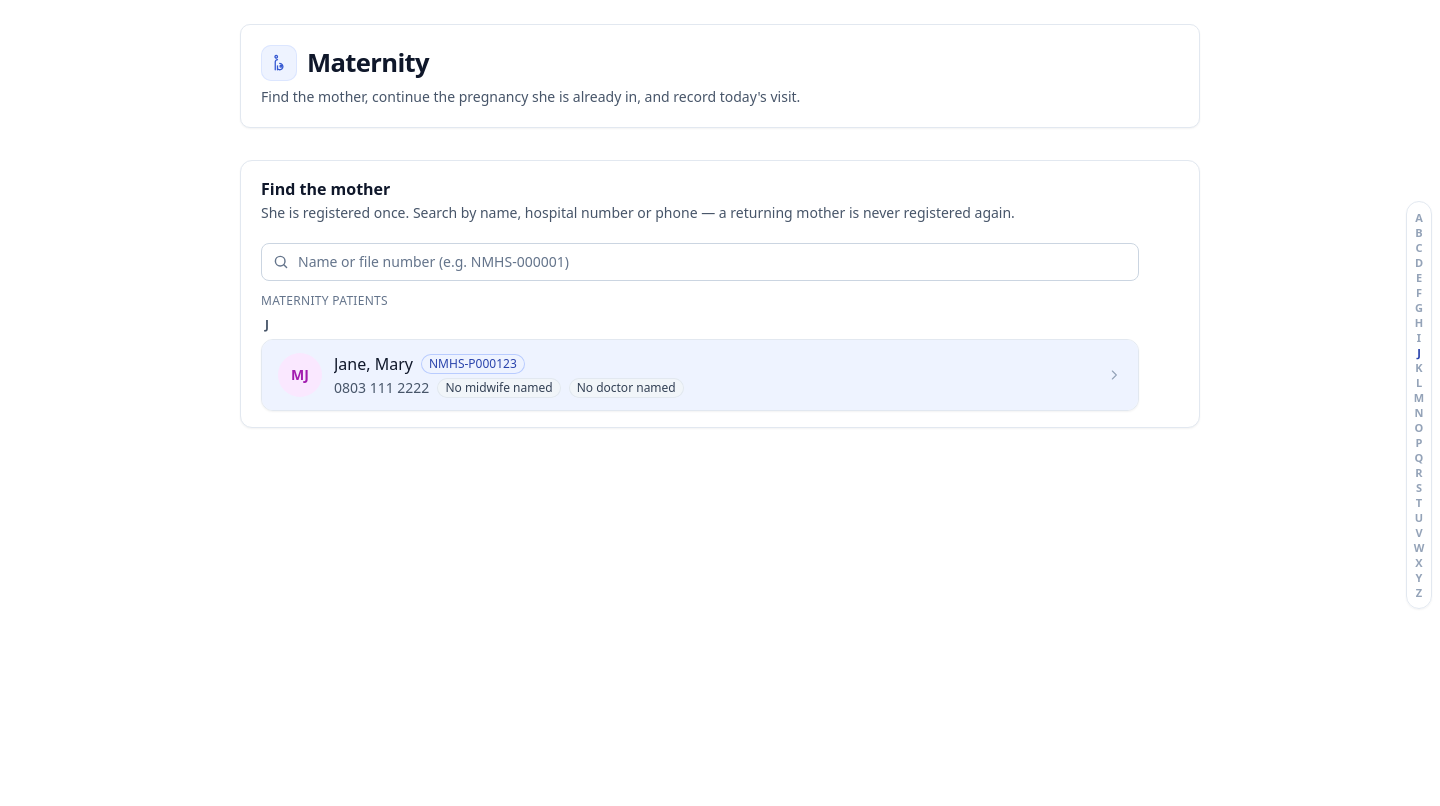
the maternity workspace › lists every ANC visit of this pregnancy, oldest history intact
Click the dropdown named "Search maternity patients" at (700, 262), box [261, 243, 1139, 281]
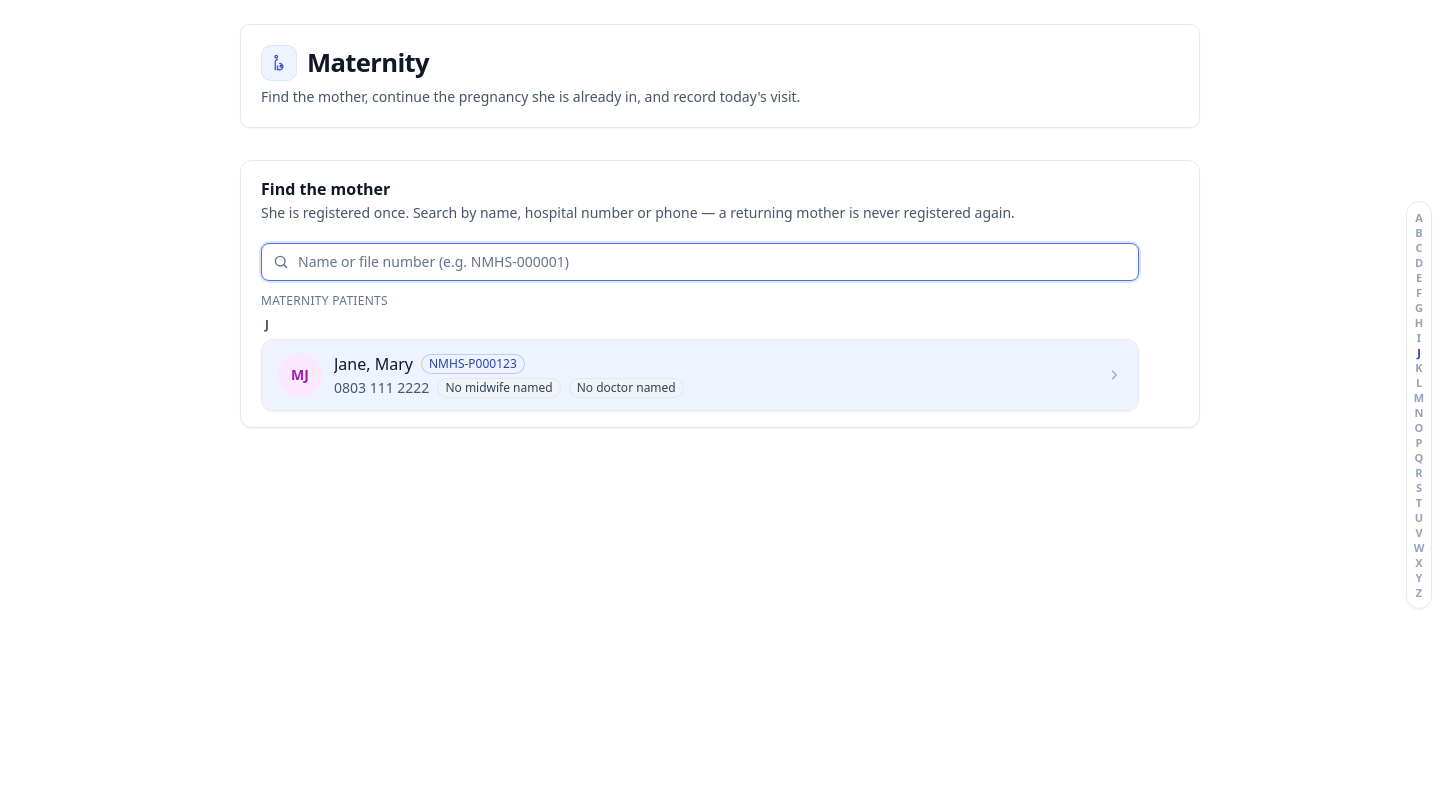
Click the option "Jane, Mary" at (300, 375), box [262, 340, 1138, 410]
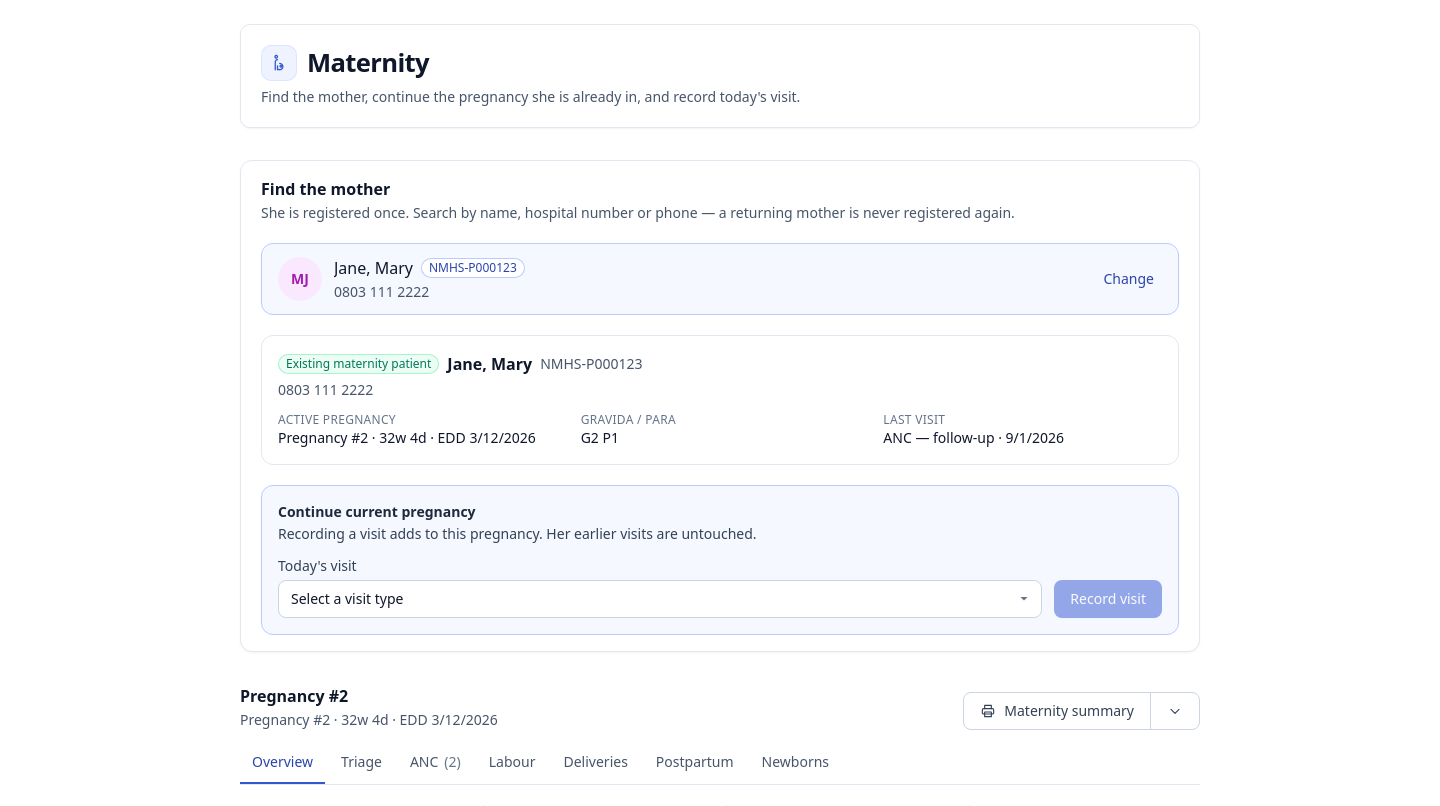
Click the button "ANC(2)" at (435, 763), box [398, 742, 473, 784]
(page scrolled)
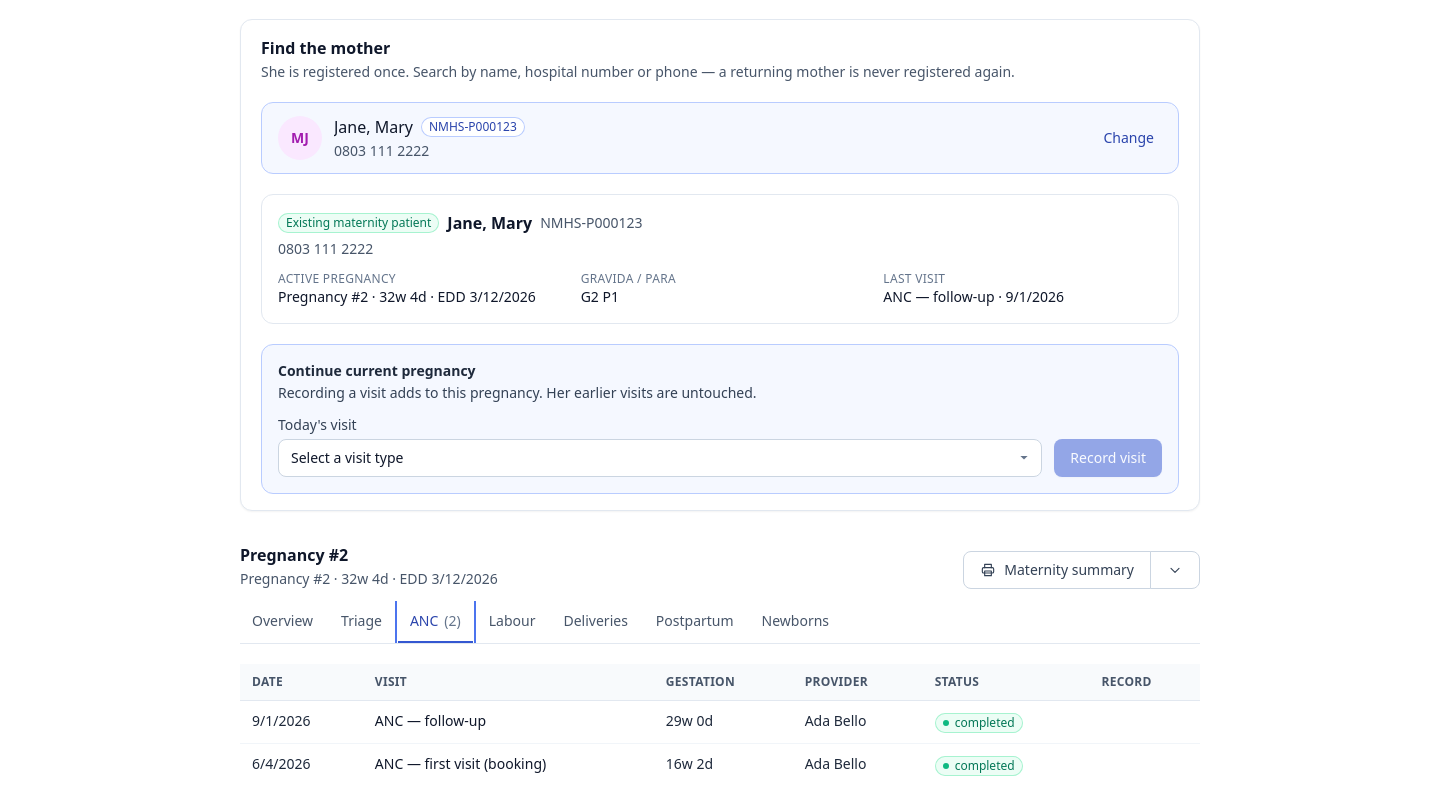
Check: the cell "ANC — first visit (booking)" is shown, box [363, 744, 654, 786]
Check: the cell "16w 2d" is shown, box [654, 744, 793, 786]
